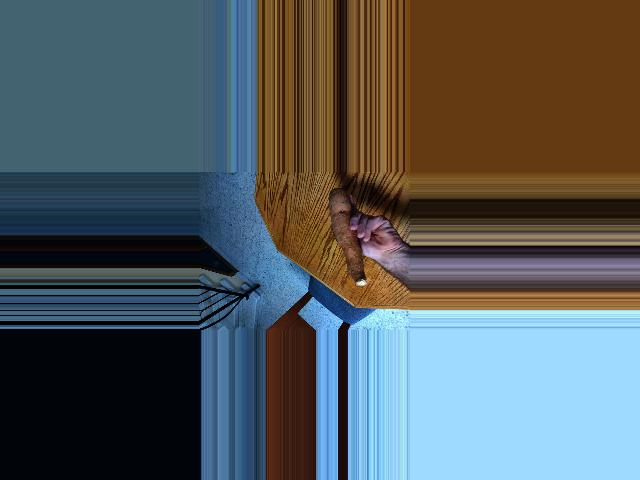sweet_potato: (324, 190, 370, 288)
